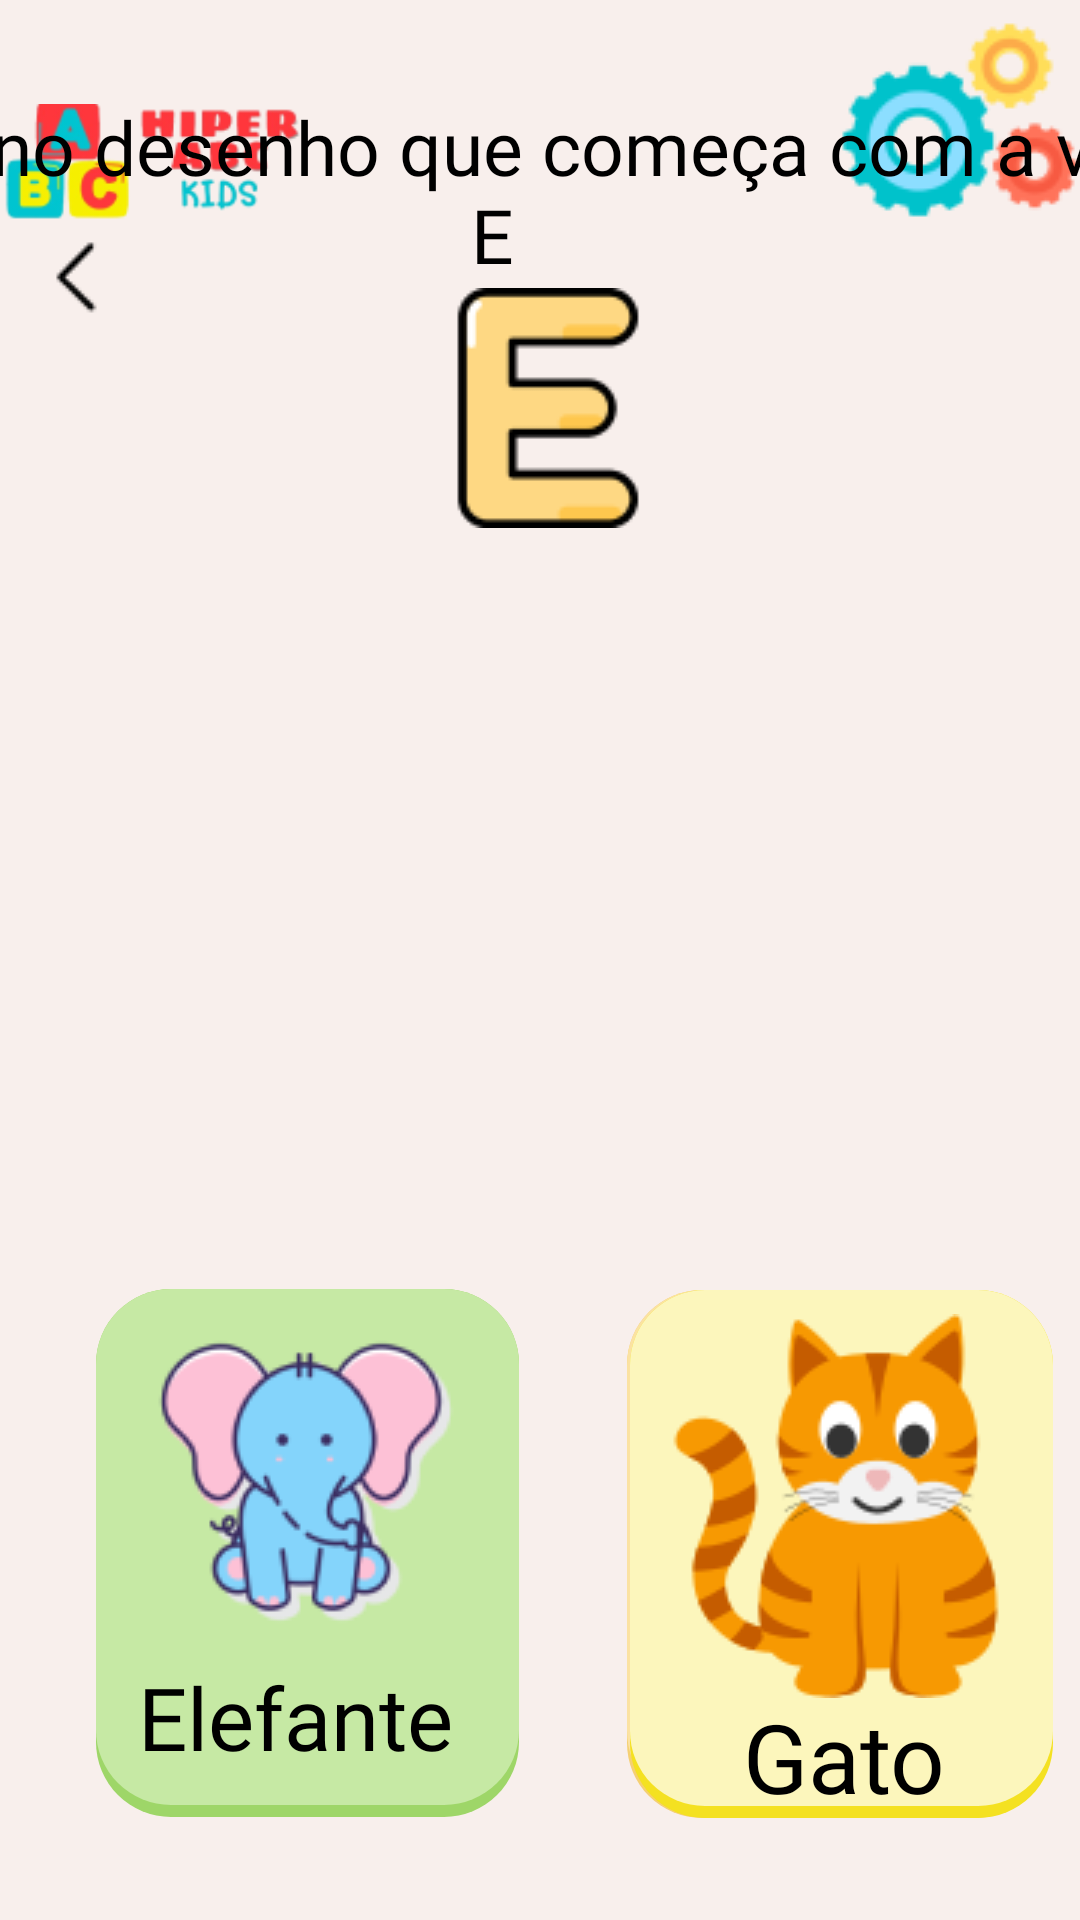

Point at icon controls on the screen. Image size 1080 x 1920, points as point (x, y).
letra desenho: point (548, 408)
